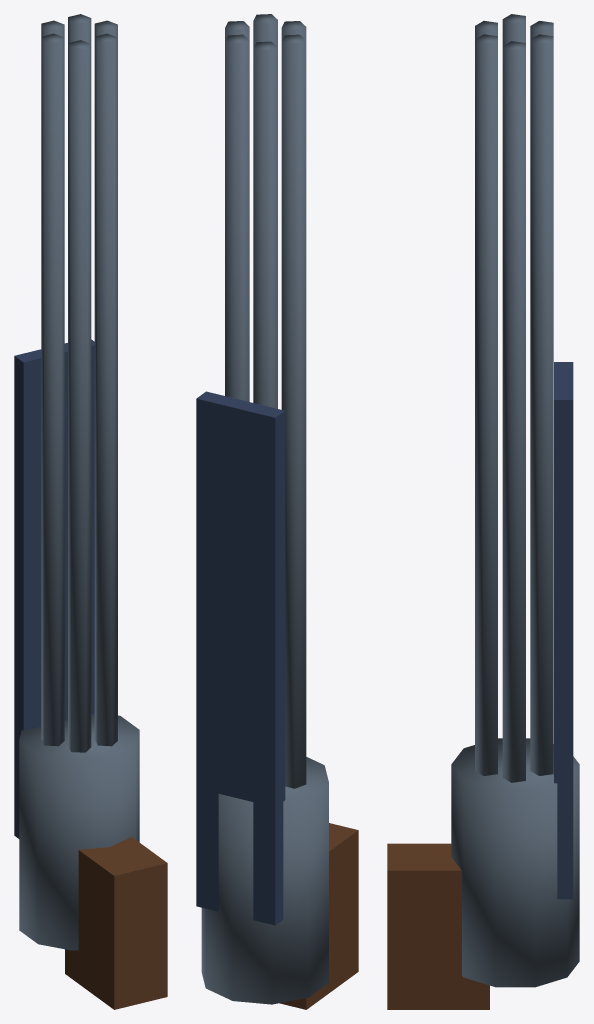
Rendered from megashark.glb.
3 views of the same model, side by side, from view 1: azimuth 30°, elevation 25°; view 2: azimuth 150°, elevation 25°; view 3: azimuth 270°, elevation 25° (orthographic). The views are drawn at different scales.
Visible parts, largest first — view 1: megashark_v0; view 2: megashark_v0; view 3: megashark_v0.
Boxes of the visible parts, x1,y1,x2,y2 form: megashark_v0: [14, 14, 167, 1009]; megashark_v0: [196, 14, 358, 1009]; megashark_v0: [387, 14, 579, 1009].
Bounding box in the file's own units: 0.0951 × 0.83 × 0.15.
